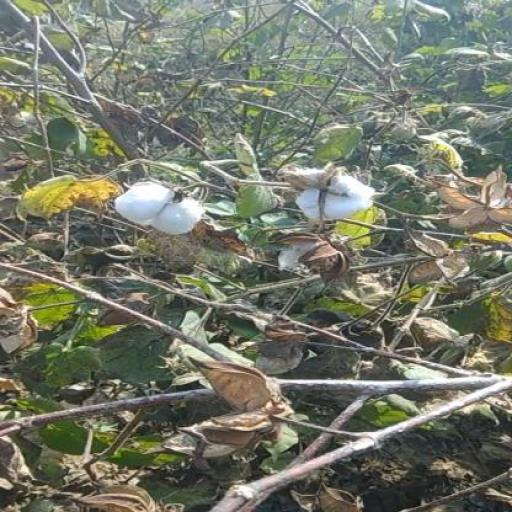cotton_ready: (74, 175, 224, 243), (278, 163, 377, 235)
